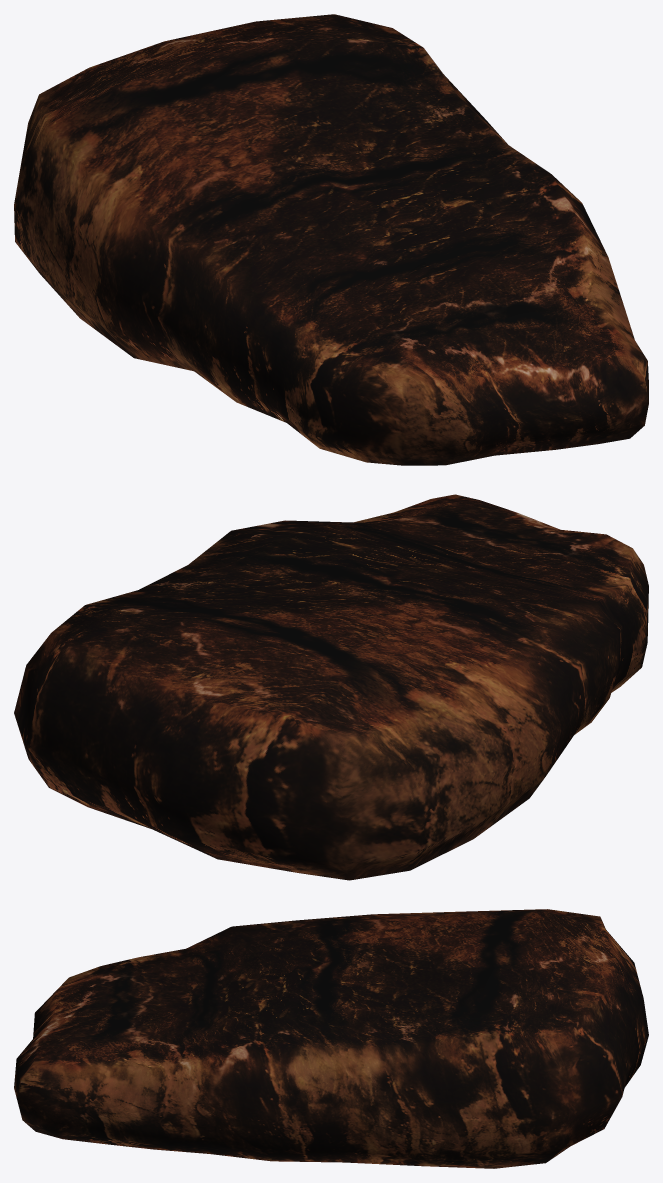
The model's file is SteakBurnt.fbx.
3 views of the same model, one above another, from view 1: azimuth 30°, elevation 25°; view 2: azimuth 150°, elevation 25°; view 3: azimuth 270°, elevation 25° (orthographic). The views are drawn at different scales.
Parts seen in each view (by area): view 1: Default_Layer; view 2: Default_Layer; view 3: Default_Layer.
Boxes of the visible parts, box(x1,y1,x2,y2) form: Default_Layer: box(14, 14, 648, 465); Default_Layer: box(14, 494, 648, 880); Default_Layer: box(14, 909, 648, 1168).
Bounding box in the file's own units: 20.13 × 9.11 × 31.4.
